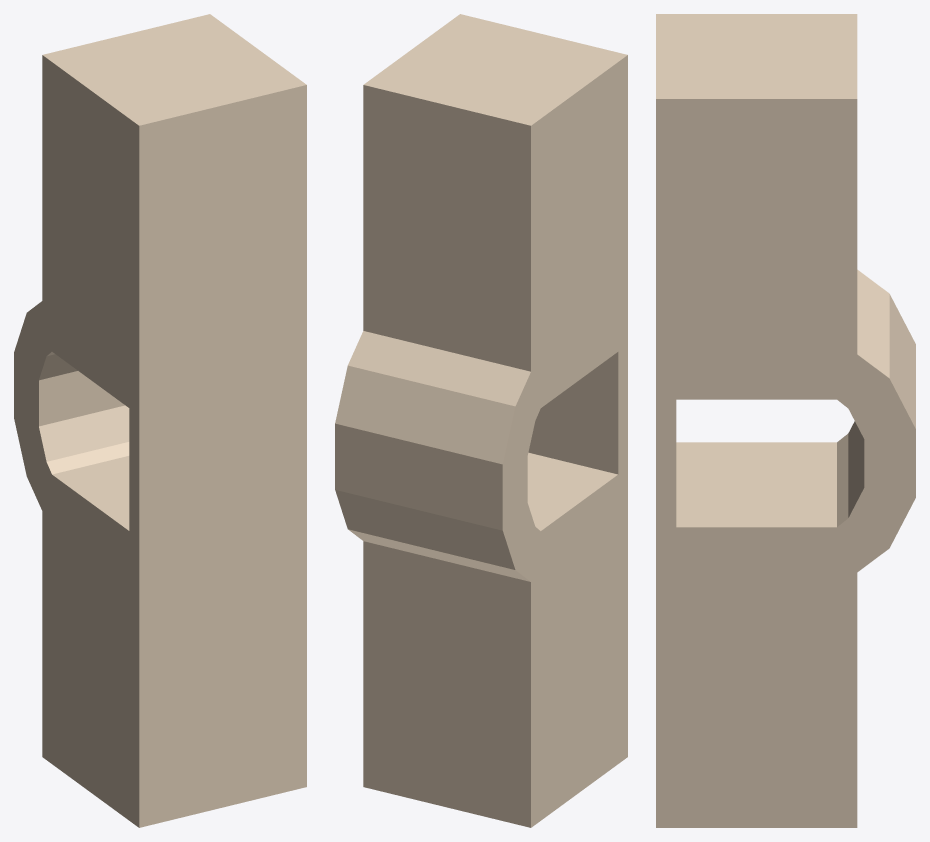
Rendered from Puzzle_Wall_Pillar_Conduit_Passthrough.glb.
3 views of the same model, side by side, from view 1: azimuth 30°, elevation 25°; view 2: azimuth 150°, elevation 25°; view 3: azimuth 270°, elevation 25° (orthographic). The views are drawn at different scales.
Visible parts, largest first — view 1: Sandstone_4; view 2: Sandstone_4; view 3: Sandstone_4.
Part boxes in pixels (box(x1,y1,x2,y2)): Sandstone_4: box(14, 14, 306, 827); Sandstone_4: box(335, 14, 627, 827); Sandstone_4: box(656, 14, 915, 827).
Size of the model in its own units: 0.25 by 1 by 0.323.
